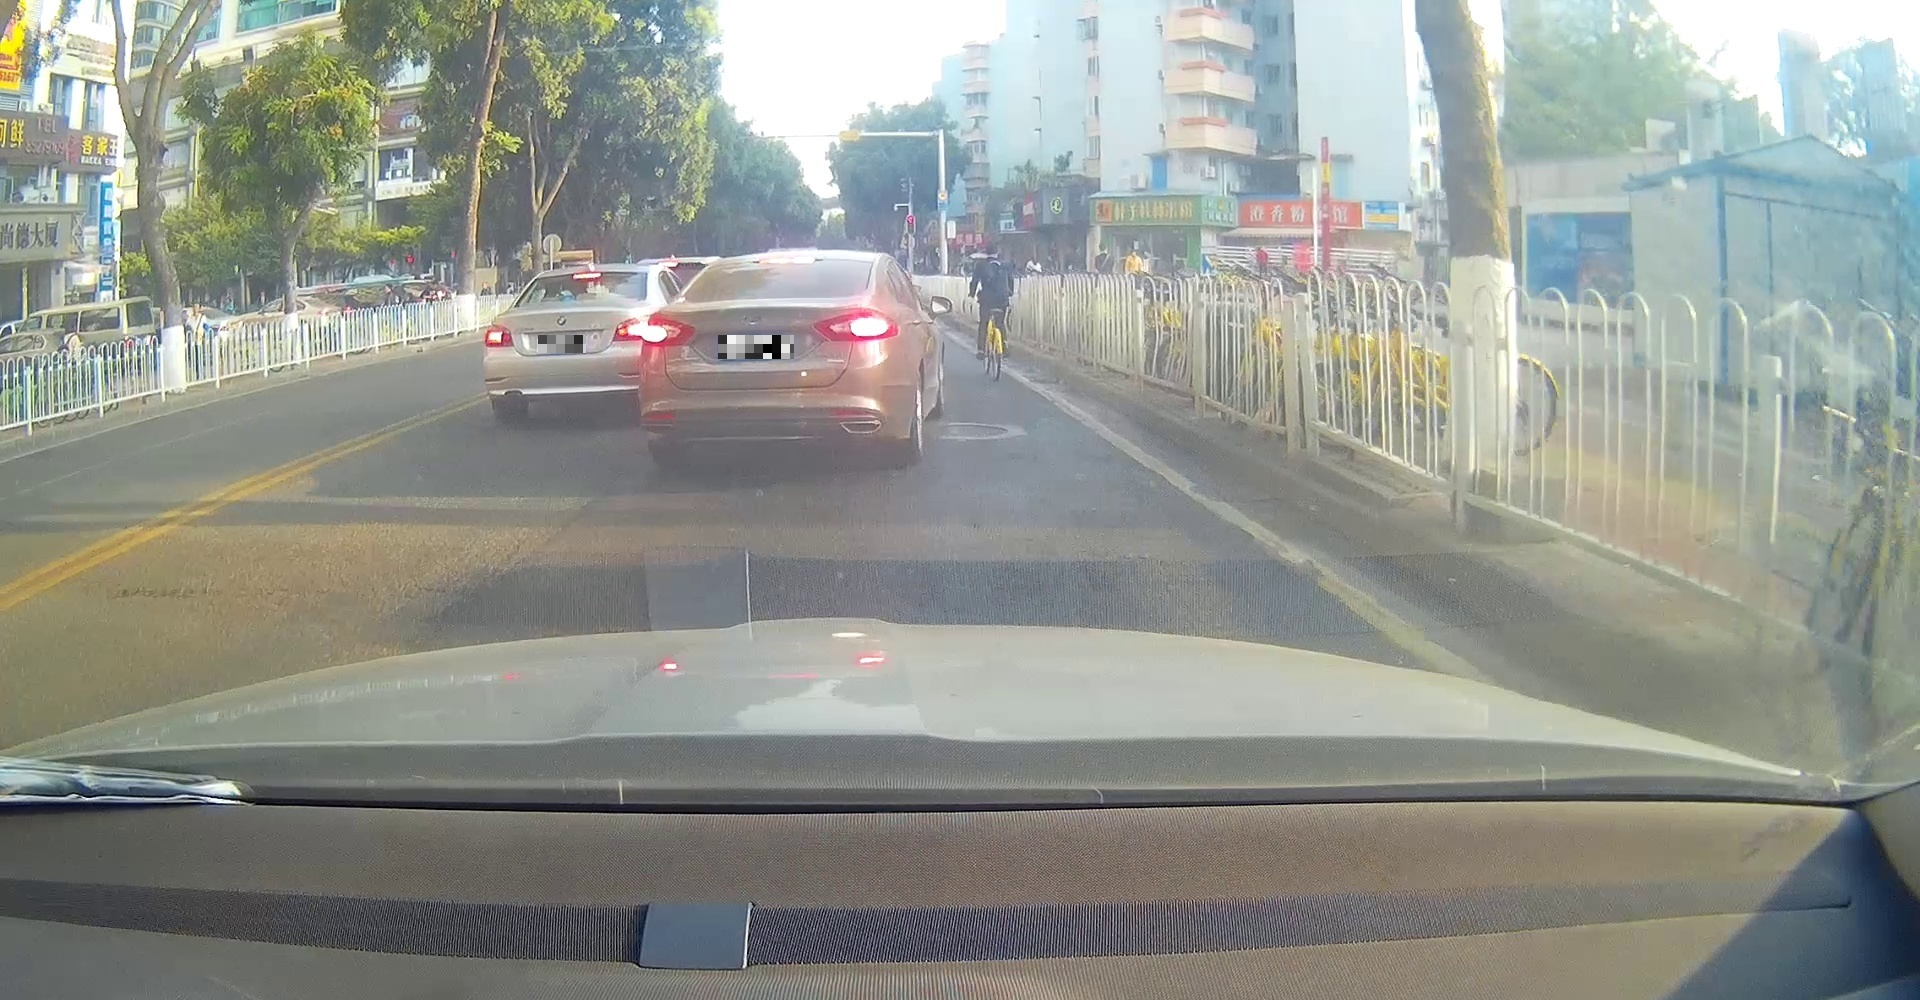L_light: (643, 313, 697, 346)
R_light: (811, 308, 900, 343)
T_light: (764, 259, 814, 265)
day-brake: (637, 249, 907, 470)
plate_1: (538, 335, 585, 353)
plate_2: (717, 335, 794, 359)
